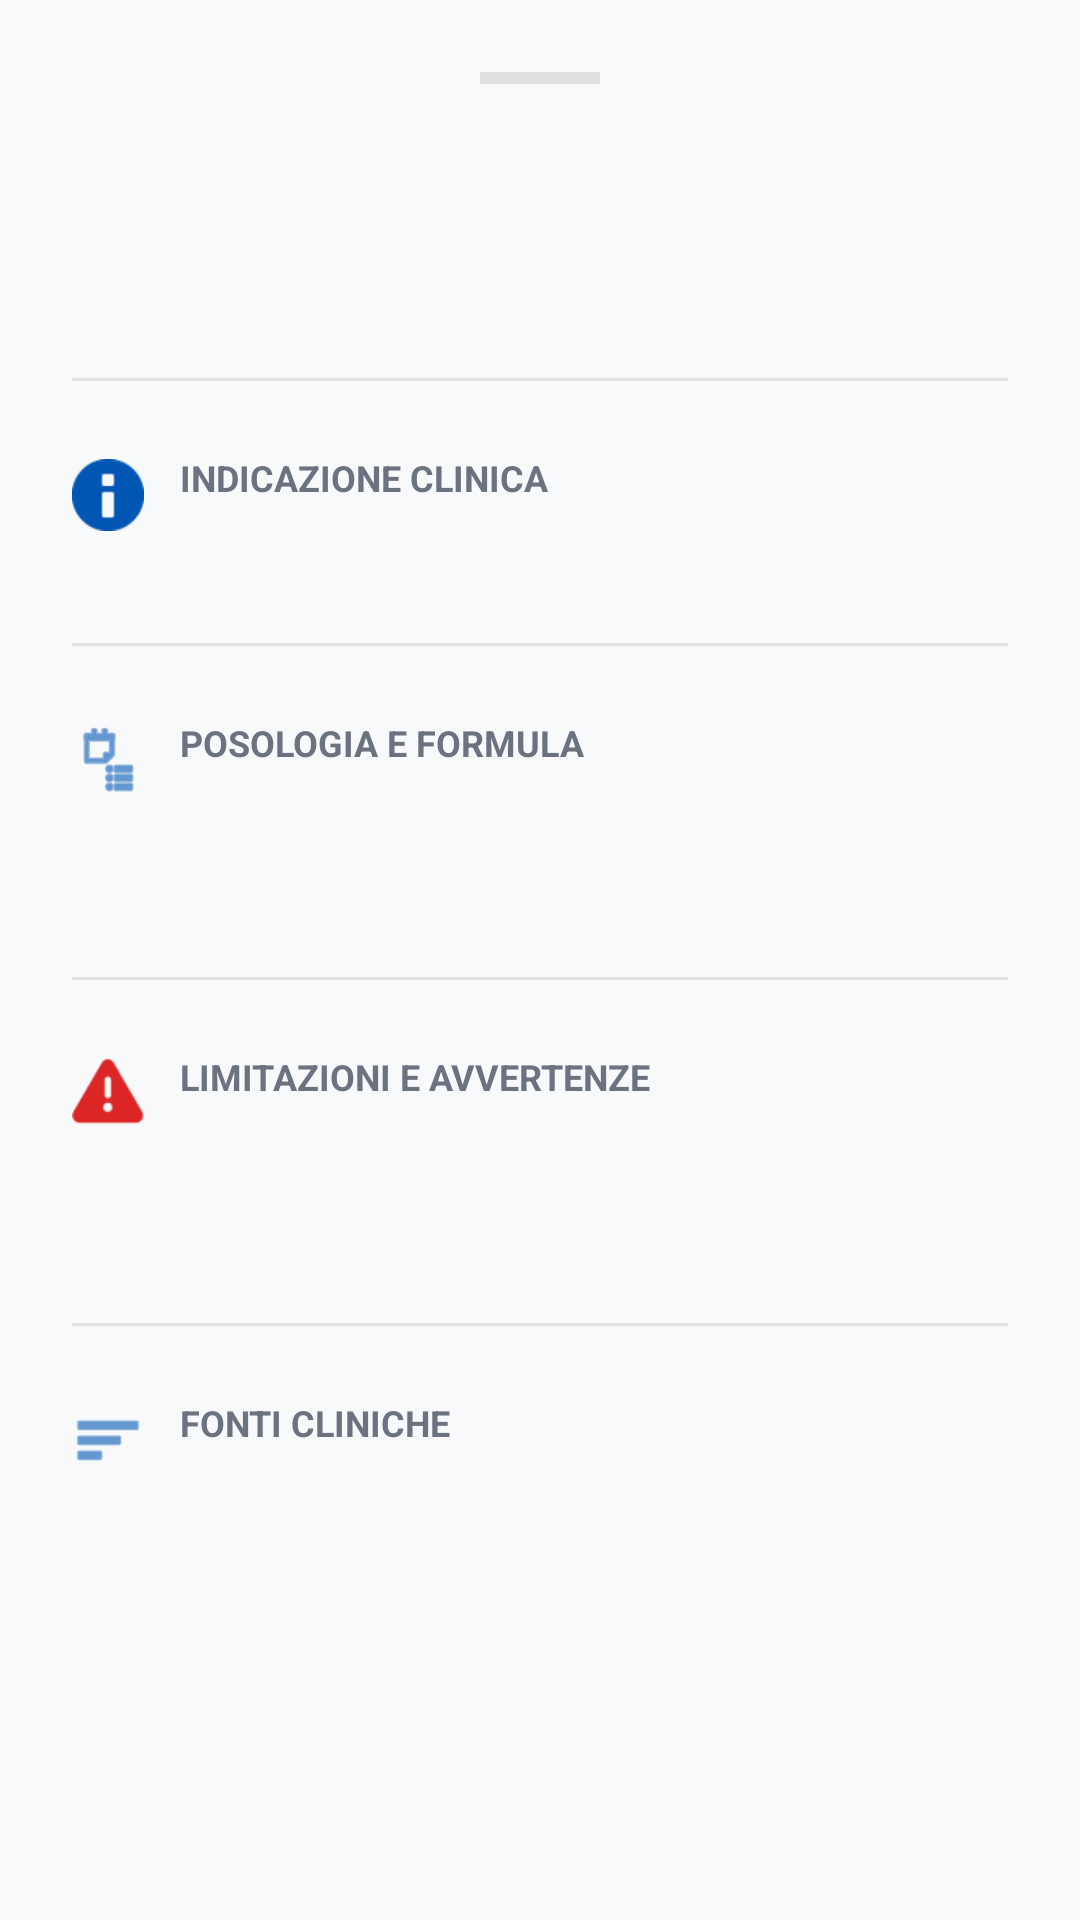

Screen size 1080px x 1920px. Icon name, then its box in pixels as (x1, y1, x2, y2):
agenda: (83, 728, 134, 792)
alert: (72, 1058, 144, 1124)
info: (72, 459, 144, 531)
sort by size: (77, 1420, 139, 1461)
